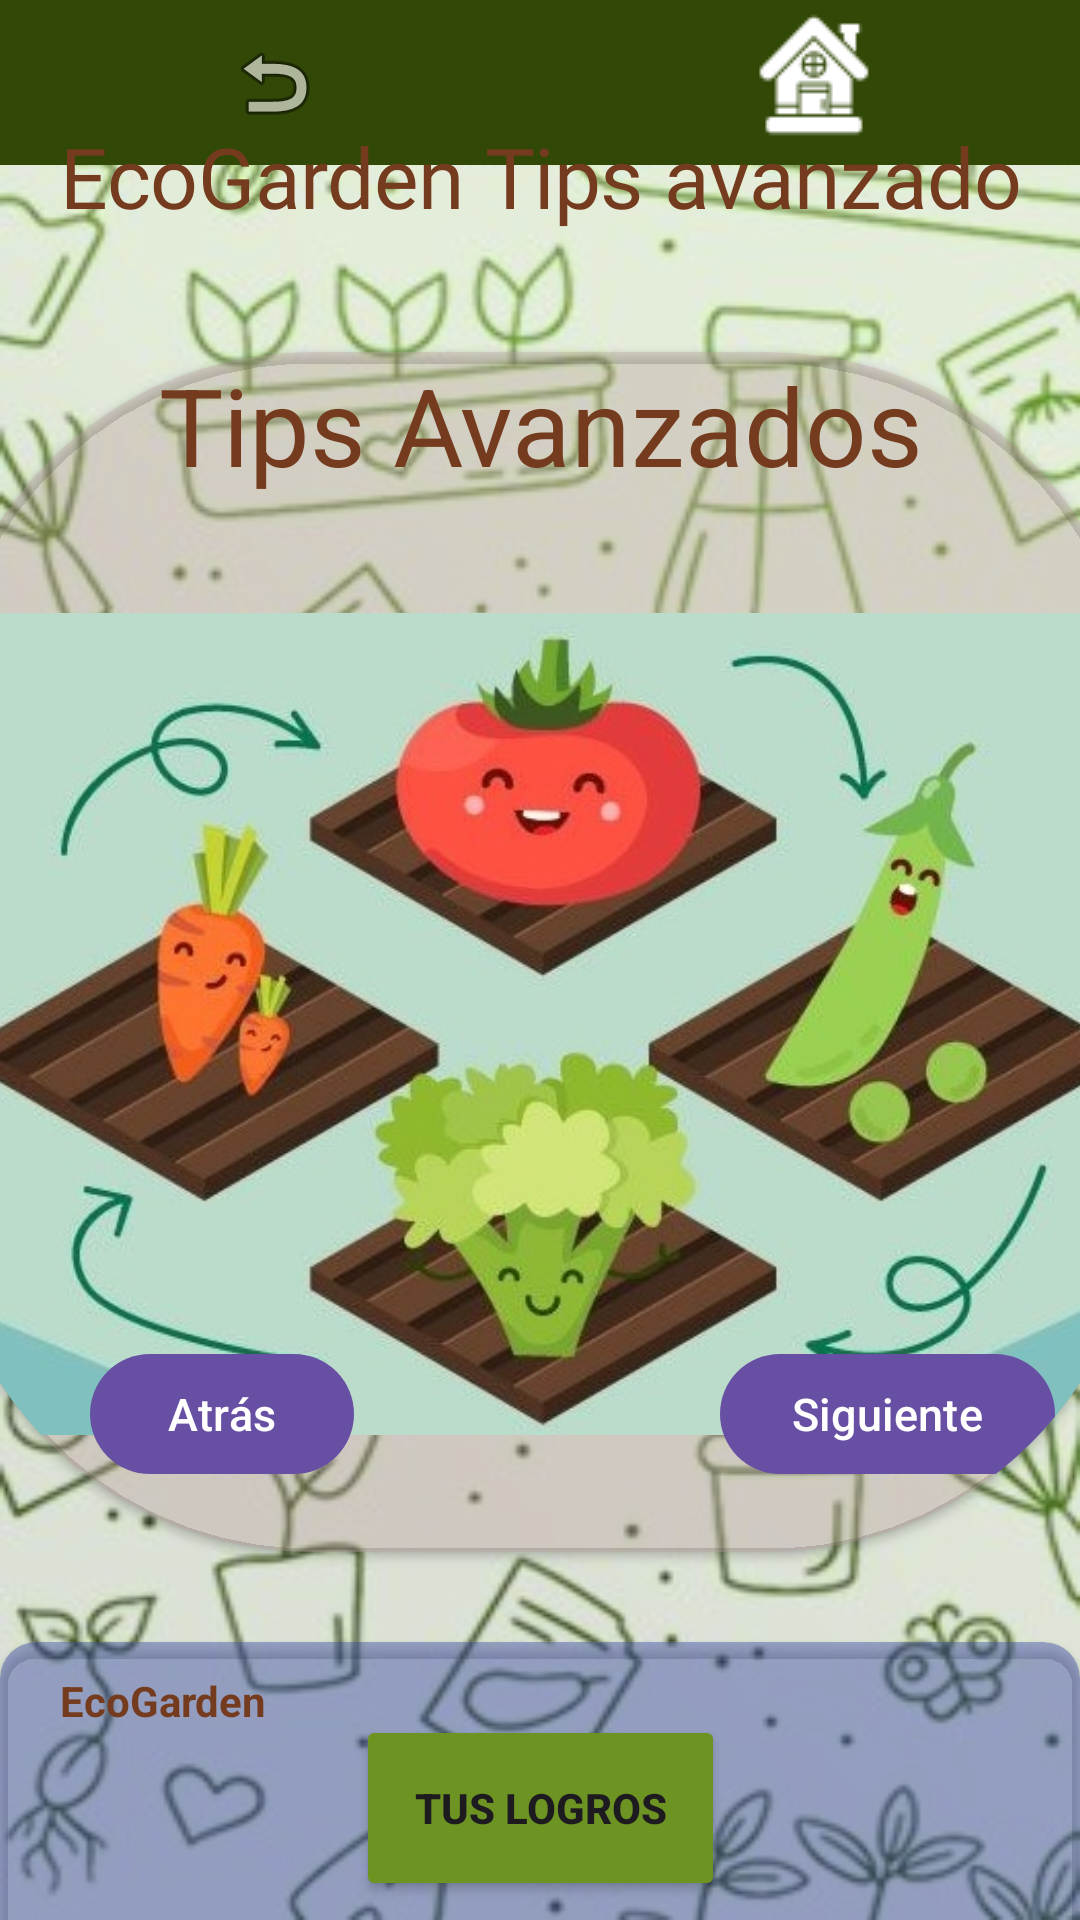

Icon bounding boxes for this 1080 x 1920 phone screenshot, format rect(x1, y1, x2, y2):
Home: rect(759, 15, 869, 135)
